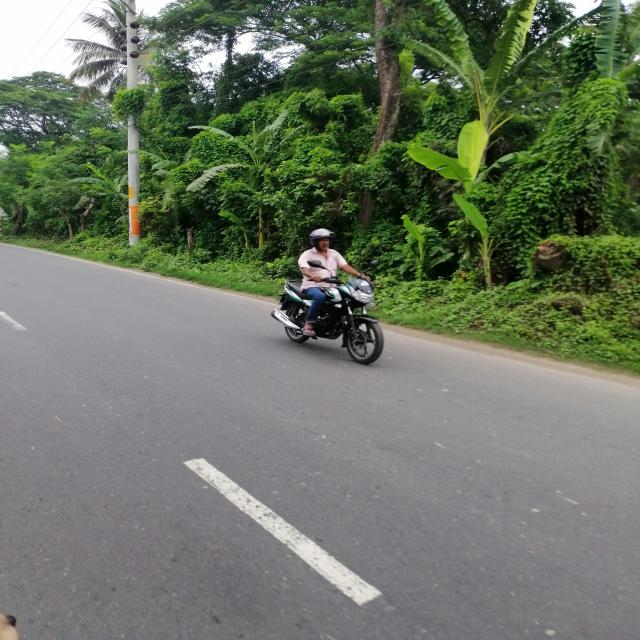Motorbike: (268, 269, 394, 365)
